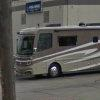Bus: (17, 22, 98, 80)
